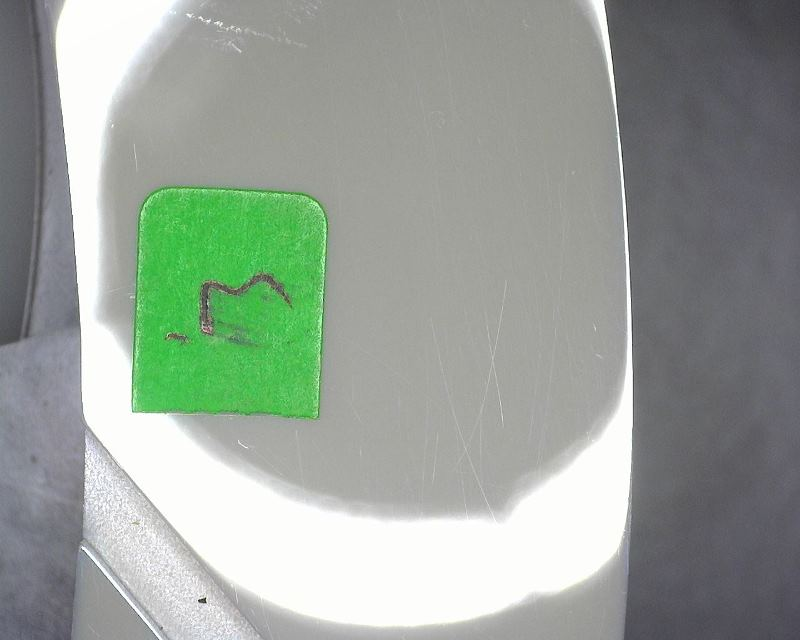scratch: (190, 11, 310, 56), (429, 314, 465, 437), (462, 445, 496, 517), (483, 275, 510, 353), (489, 359, 505, 425), (133, 139, 142, 171), (236, 437, 249, 450), (590, 320, 600, 333), (593, 350, 603, 360)
